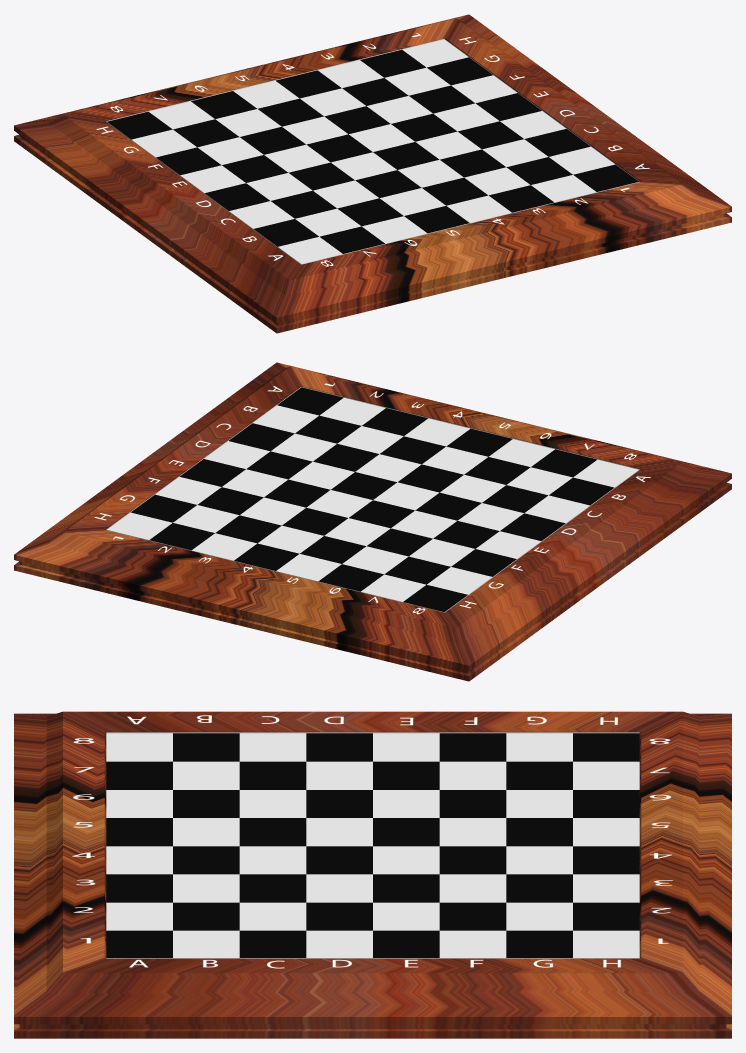
The model's file is Chess_Base.gltf.
3 views of the same model, one above another, from view 1: azimuth 30°, elevation 25°; view 2: azimuth 150°, elevation 25°; view 3: azimuth 270°, elevation 25° (orthographic). The views are drawn at different scales.
Visible parts, largest first — view 1: Chess Board; view 2: Chess Board; view 3: Chess Board, LettereNeri, LettereBianchi, NumeriNeri, NumeriBianchi.
Part boxes in pixels (x1,y1,x2,y2): Chess Board: (14,14,731,333); Chess Board: (14,362,731,681); Chess Board: (14,711,731,1038); LettereNeri: (127,715,617,725); LettereBianchi: (129,959,620,968); NumeriNeri: (649,738,672,943); NumeriBianchi: (72,738,95,943).
Size of the model in its own units: 0.6459 by 0.0444 by 0.6459.
7 materials, 5 textured.
